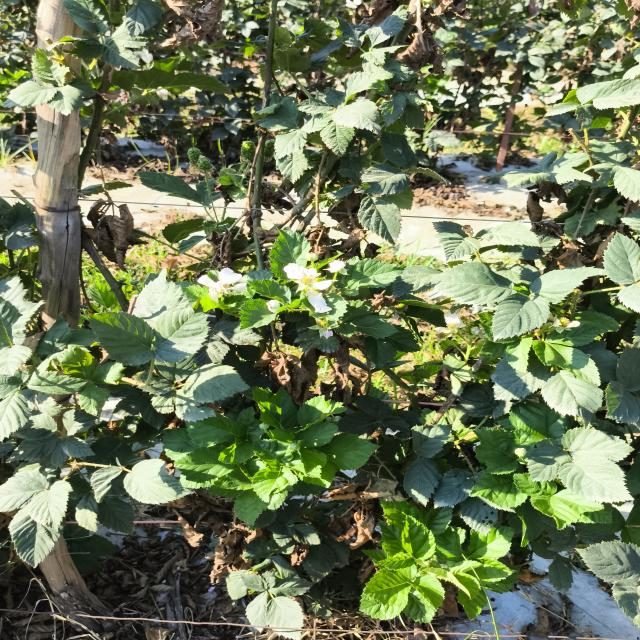flor: (197, 267, 246, 301), (284, 263, 332, 292), (436, 312, 465, 334), (552, 318, 580, 332), (326, 260, 345, 272), (266, 300, 281, 313), (321, 330, 333, 339)
